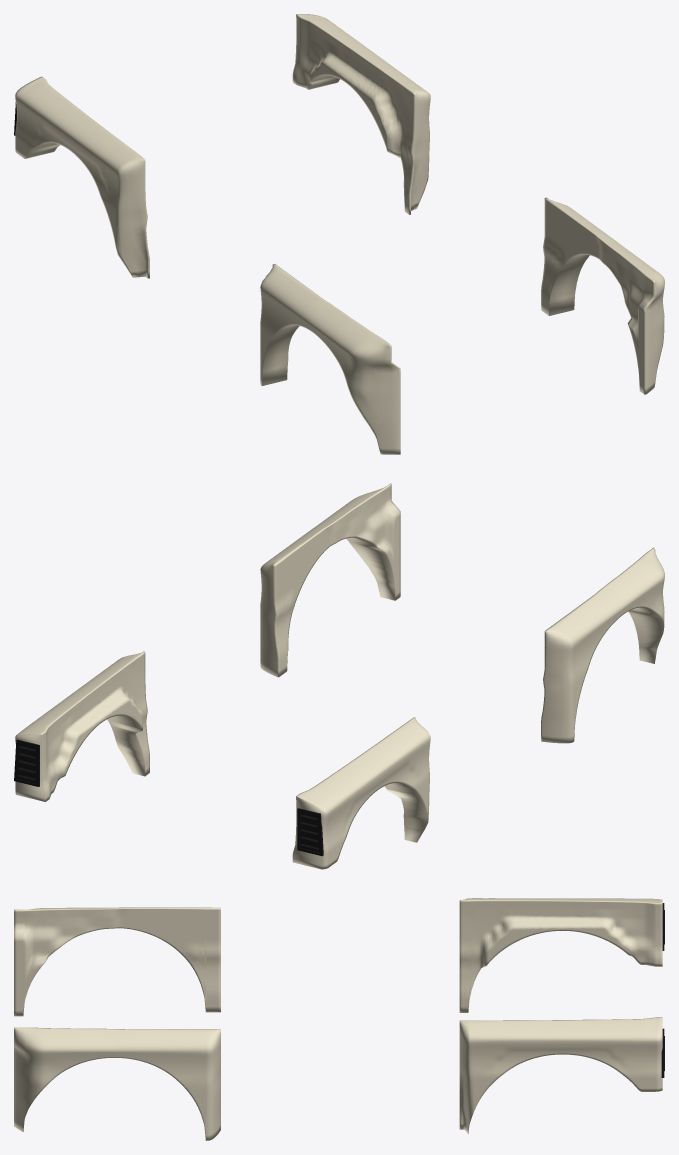
File: fender_damd_delta.glb
The picture shows the model from 3 angles, top to bottom: view 1: azimuth 30°, elevation 25°; view 2: azimuth 150°, elevation 25°; view 3: azimuth 270°, elevation 25°; orthographic projection. The views are drawn at different scales.
Parts seen in each view (by area): view 1: front-1.006, rear1.006, rear-1.006, front1.006; view 2: front-1.006, front1.006, rear-1.006, rear1.006, duct-1, duct1; view 3: rear1.006, front1.006, rear-1.006, front-1.006.
Boxes of the visible parts, left/top/right/bottom form: front-1.006: left=260, top=264, right=400, bottom=454; rear1.006: left=292, top=14, right=430, bottom=214; rear-1.006: left=15, top=76, right=149, bottom=278; front1.006: left=541, top=197, right=664, bottom=394; front-1.006: left=541, top=547, right=664, bottom=743; front1.006: left=260, top=483, right=400, bottom=677; rear-1.006: left=292, top=717, right=430, bottom=869; rear1.006: left=15, top=651, right=149, bottom=801; duct-1: left=297, top=808, right=323, bottom=856; duct1: left=14, top=739, right=39, bottom=786; rear1.006: left=459, top=1017, right=662, bottom=1133; front1.006: left=14, top=1027, right=220, bottom=1140; rear-1.006: left=459, top=898, right=662, bottom=1012; front-1.006: left=14, top=907, right=220, bottom=1016.
Bounding box in the file's own units: 1.61 × 0.594 × 3.18.
